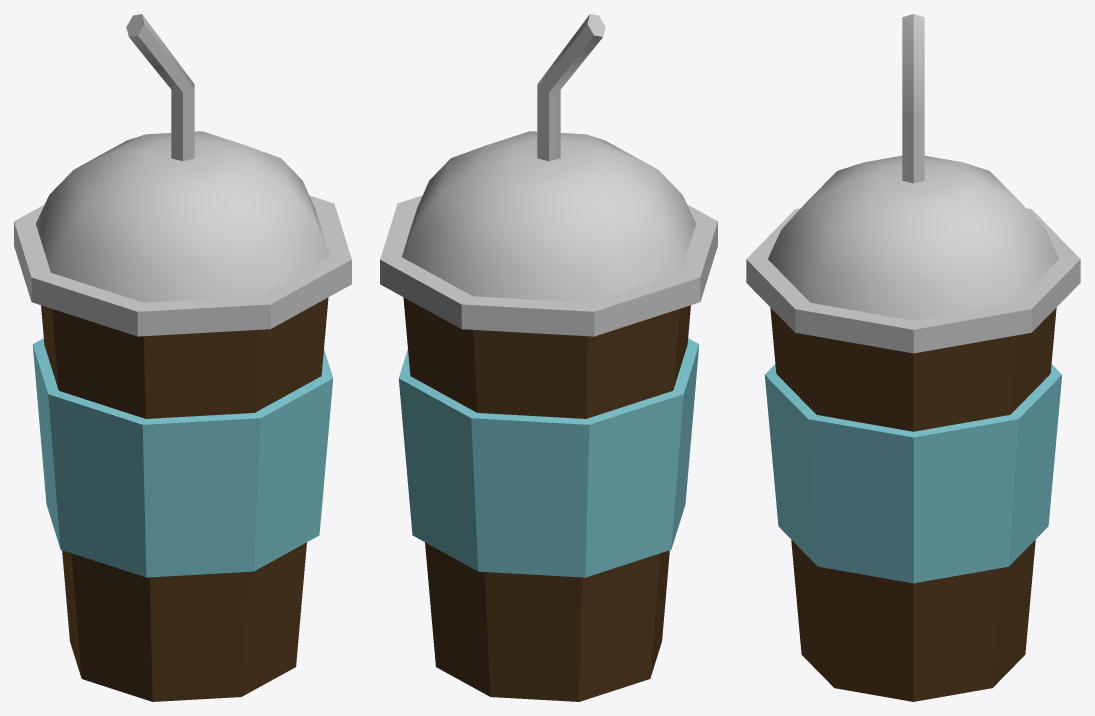
The model's file is fbx_club_juice.fbx.
3 views of the same model, side by side, from view 1: azimuth 30°, elevation 25°; view 2: azimuth 150°, elevation 25°; view 3: azimuth 270°, elevation 25° (orthographic). The views are drawn at different scales.
Parts seen in each view (by area): view 1: fbx_club_juice; view 2: fbx_club_juice; view 3: fbx_club_juice.
Boxes of the visible parts, x1=… form: fbx_club_juice: x1=14, y1=14, x2=351, y2=701; fbx_club_juice: x1=380, y1=14, x2=717, y2=701; fbx_club_juice: x1=746, y1=14, x2=1080, y2=701.
Bounding box in the file's own units: 0.468 × 0.9598 × 0.468.
1 material, 1 textured.
